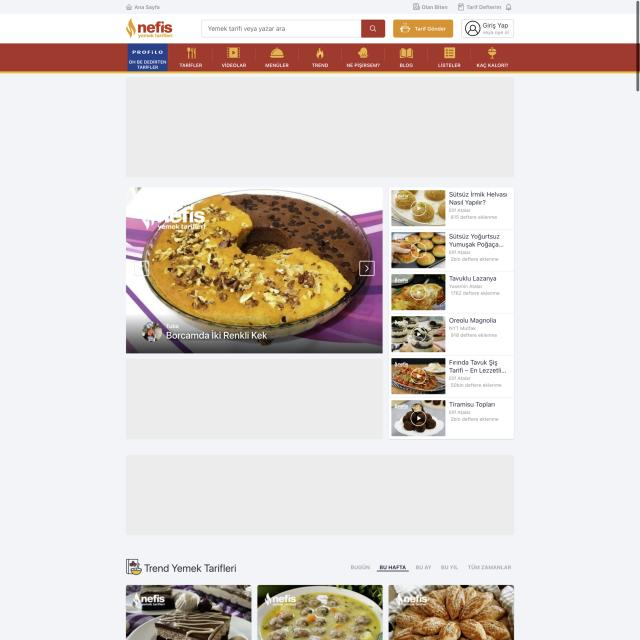input: (200, 17, 388, 39)
logo: (124, 16, 176, 40)
navigation: (128, 43, 511, 73)
video: (391, 189, 446, 227), (390, 274, 446, 310), (391, 317, 445, 352), (392, 359, 446, 394), (392, 232, 446, 266), (392, 401, 446, 435)
